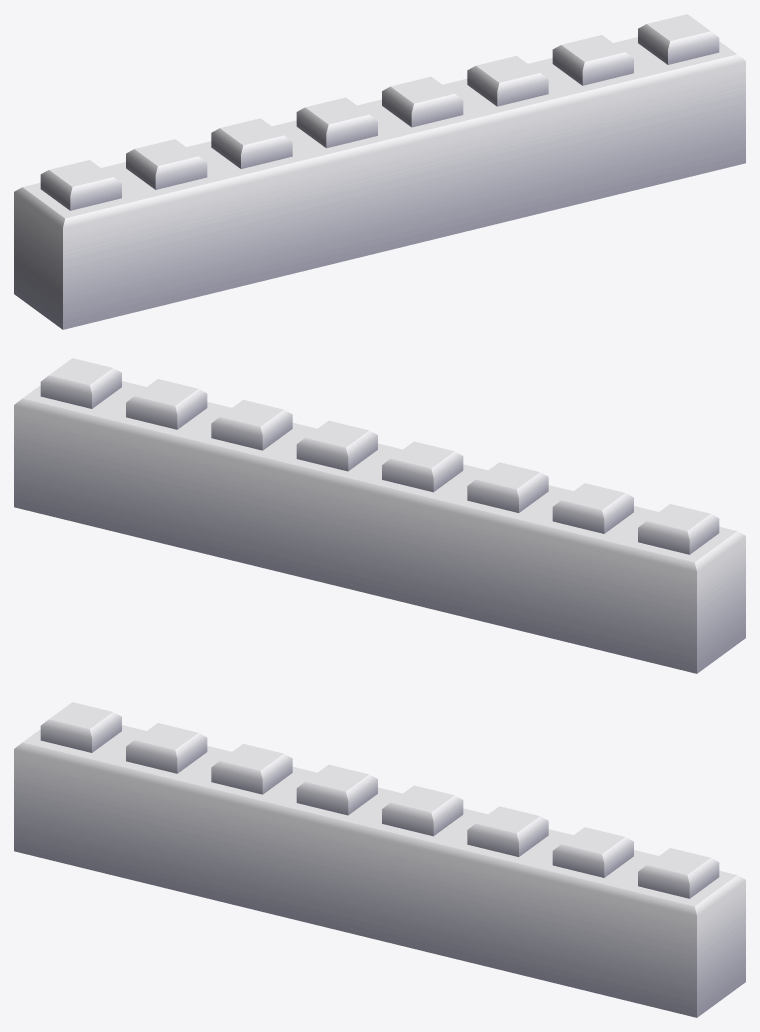
File: square-hq-brick-1x8.glb
3 views of the same model, one above another, from view 1: azimuth 30°, elevation 25°; view 2: azimuth 150°, elevation 25°; view 3: azimuth 330°, elevation 25° (orthographic).
Parts seen in each view (by area): view 1: square-hq-brick-1x8; view 2: square-hq-brick-1x8; view 3: square-hq-brick-1x8.
Boxes of the visible parts, left/top/right/bottom form: square-hq-brick-1x8: left=14, top=14, right=745, bottom=329; square-hq-brick-1x8: left=14, top=358, right=745, bottom=673; square-hq-brick-1x8: left=14, top=702, right=745, bottom=1017.
Size of the model in its own units: 0.636 by 0.114 by 0.079.
Materials: 1 (1 with a texture image).
